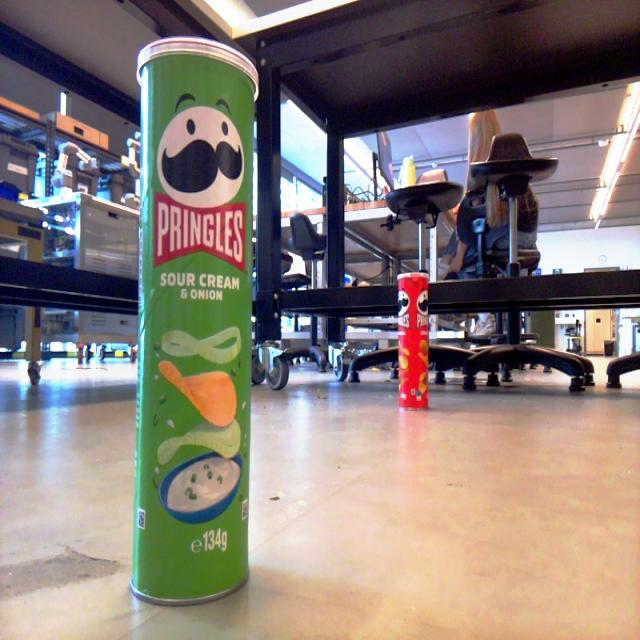greenpringles: (118, 37, 280, 608)
redpringles: (383, 258, 448, 420)
